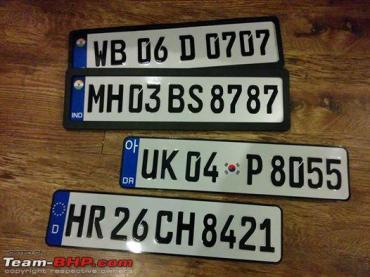number_plate: (42, 190, 284, 265), (120, 133, 352, 202), (63, 71, 292, 134), (65, 20, 288, 72)
